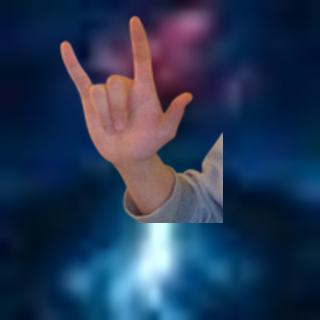ILY: (51, 12, 196, 169)
